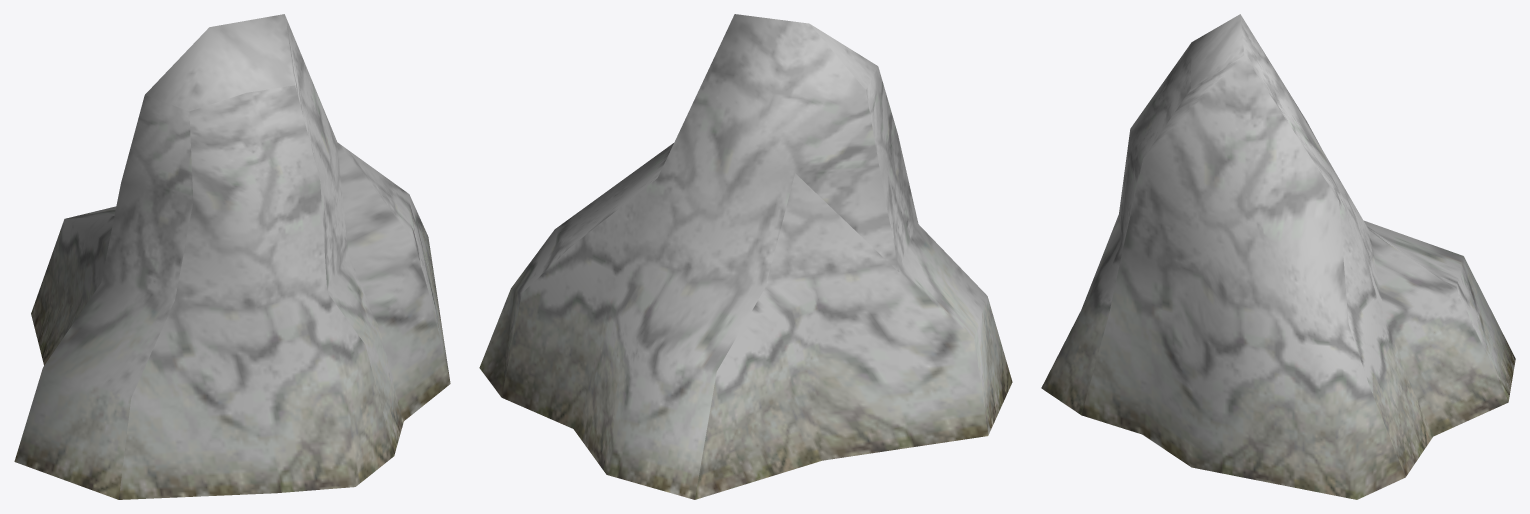
Rendered from general_obj_bigstone06.fbx.
3 renders of one model, left to right at view 1: azimuth 30°, elevation 25°; view 2: azimuth 150°, elevation 25°; view 3: azimuth 270°, elevation 25°, orthographic. The views are drawn at different scales.
Parts seen in each view (by area): view 1: Sphere01fs; view 2: Sphere01fs; view 3: Sphere01fs.
Part boxes in pixels (x1,y1,x2,y2): Sphere01fs: (14, 14, 450, 499); Sphere01fs: (479, 14, 1012, 499); Sphere01fs: (1041, 14, 1515, 499).
Bounding box in the file's own units: 19.95 × 15.49 × 18.64.
